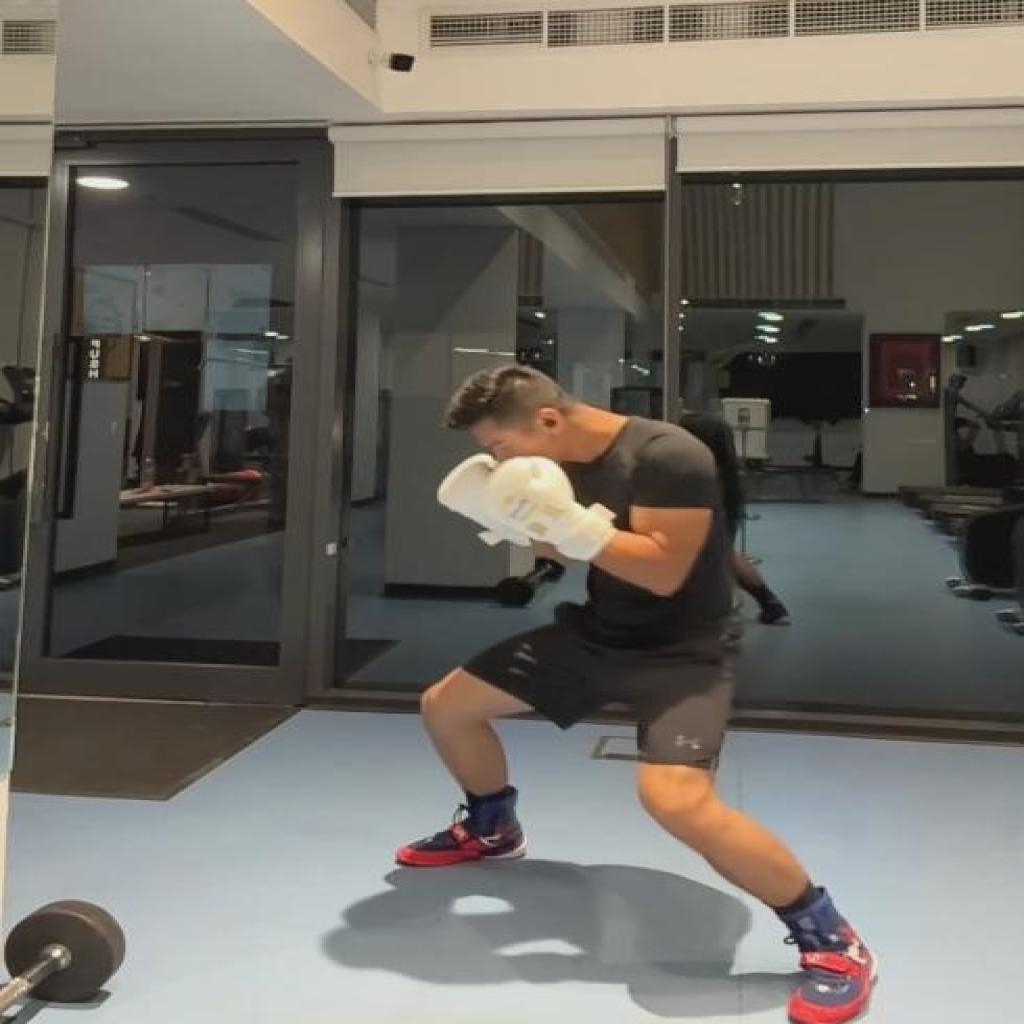no punch: (388, 358, 878, 1024)
